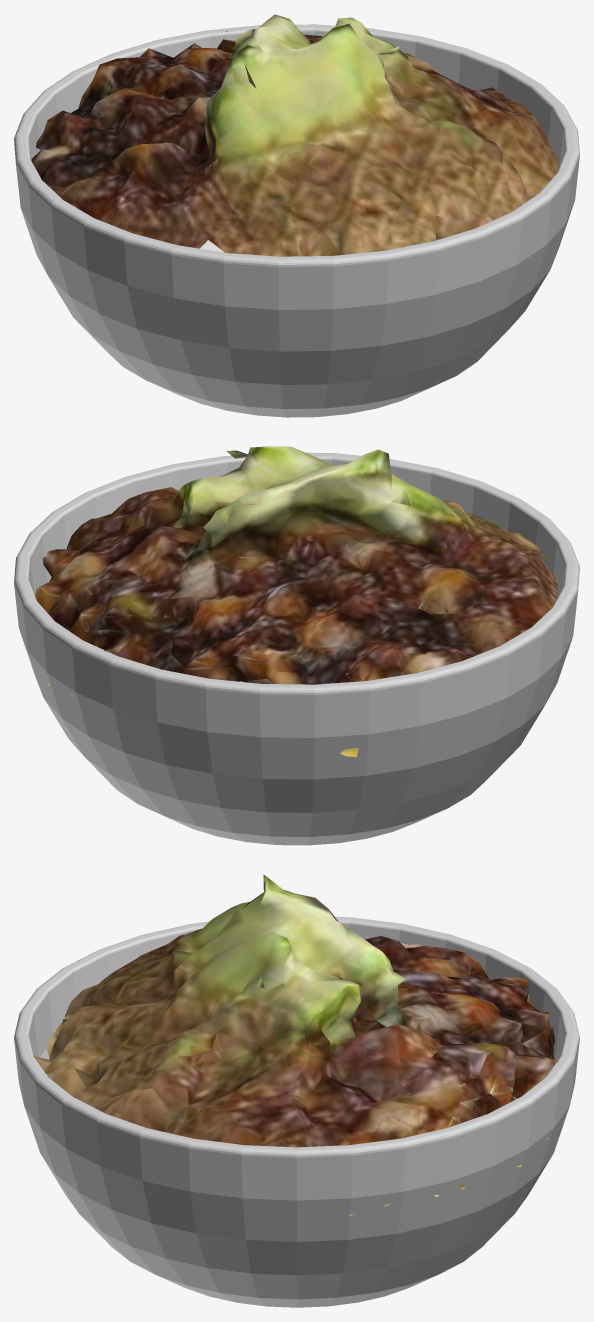
The model's file is Zzazangmyeon.fbx.
3 views of the same model, one above another, from view 1: azimuth 30°, elevation 25°; view 2: azimuth 150°, elevation 25°; view 3: azimuth 270°, elevation 25° (orthographic).
Visible parts, largest first — view 1: geometry_0.003; view 2: geometry_0.003; view 3: geometry_0.003.
Boxes of the visible parts, box(x1,y1,x2,y2) form: geometry_0.003: box(14, 14, 579, 417); geometry_0.003: box(14, 446, 579, 845); geometry_0.003: box(14, 874, 579, 1307).
Bounding box in the file's own units: 200 × 133 × 200.
2 materials, 1 textured.
